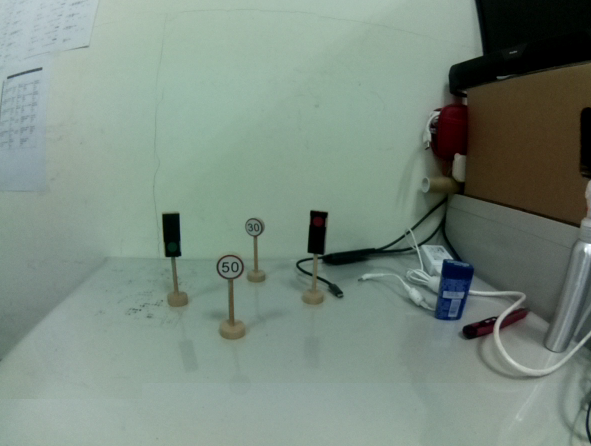Green: (159, 208, 188, 260)
Red: (304, 207, 331, 260)
Speed30: (243, 216, 267, 239)
Speed50: (214, 251, 245, 283)
